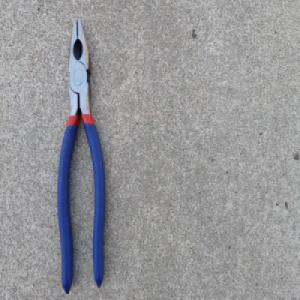Pliers: (56, 15, 107, 296)
